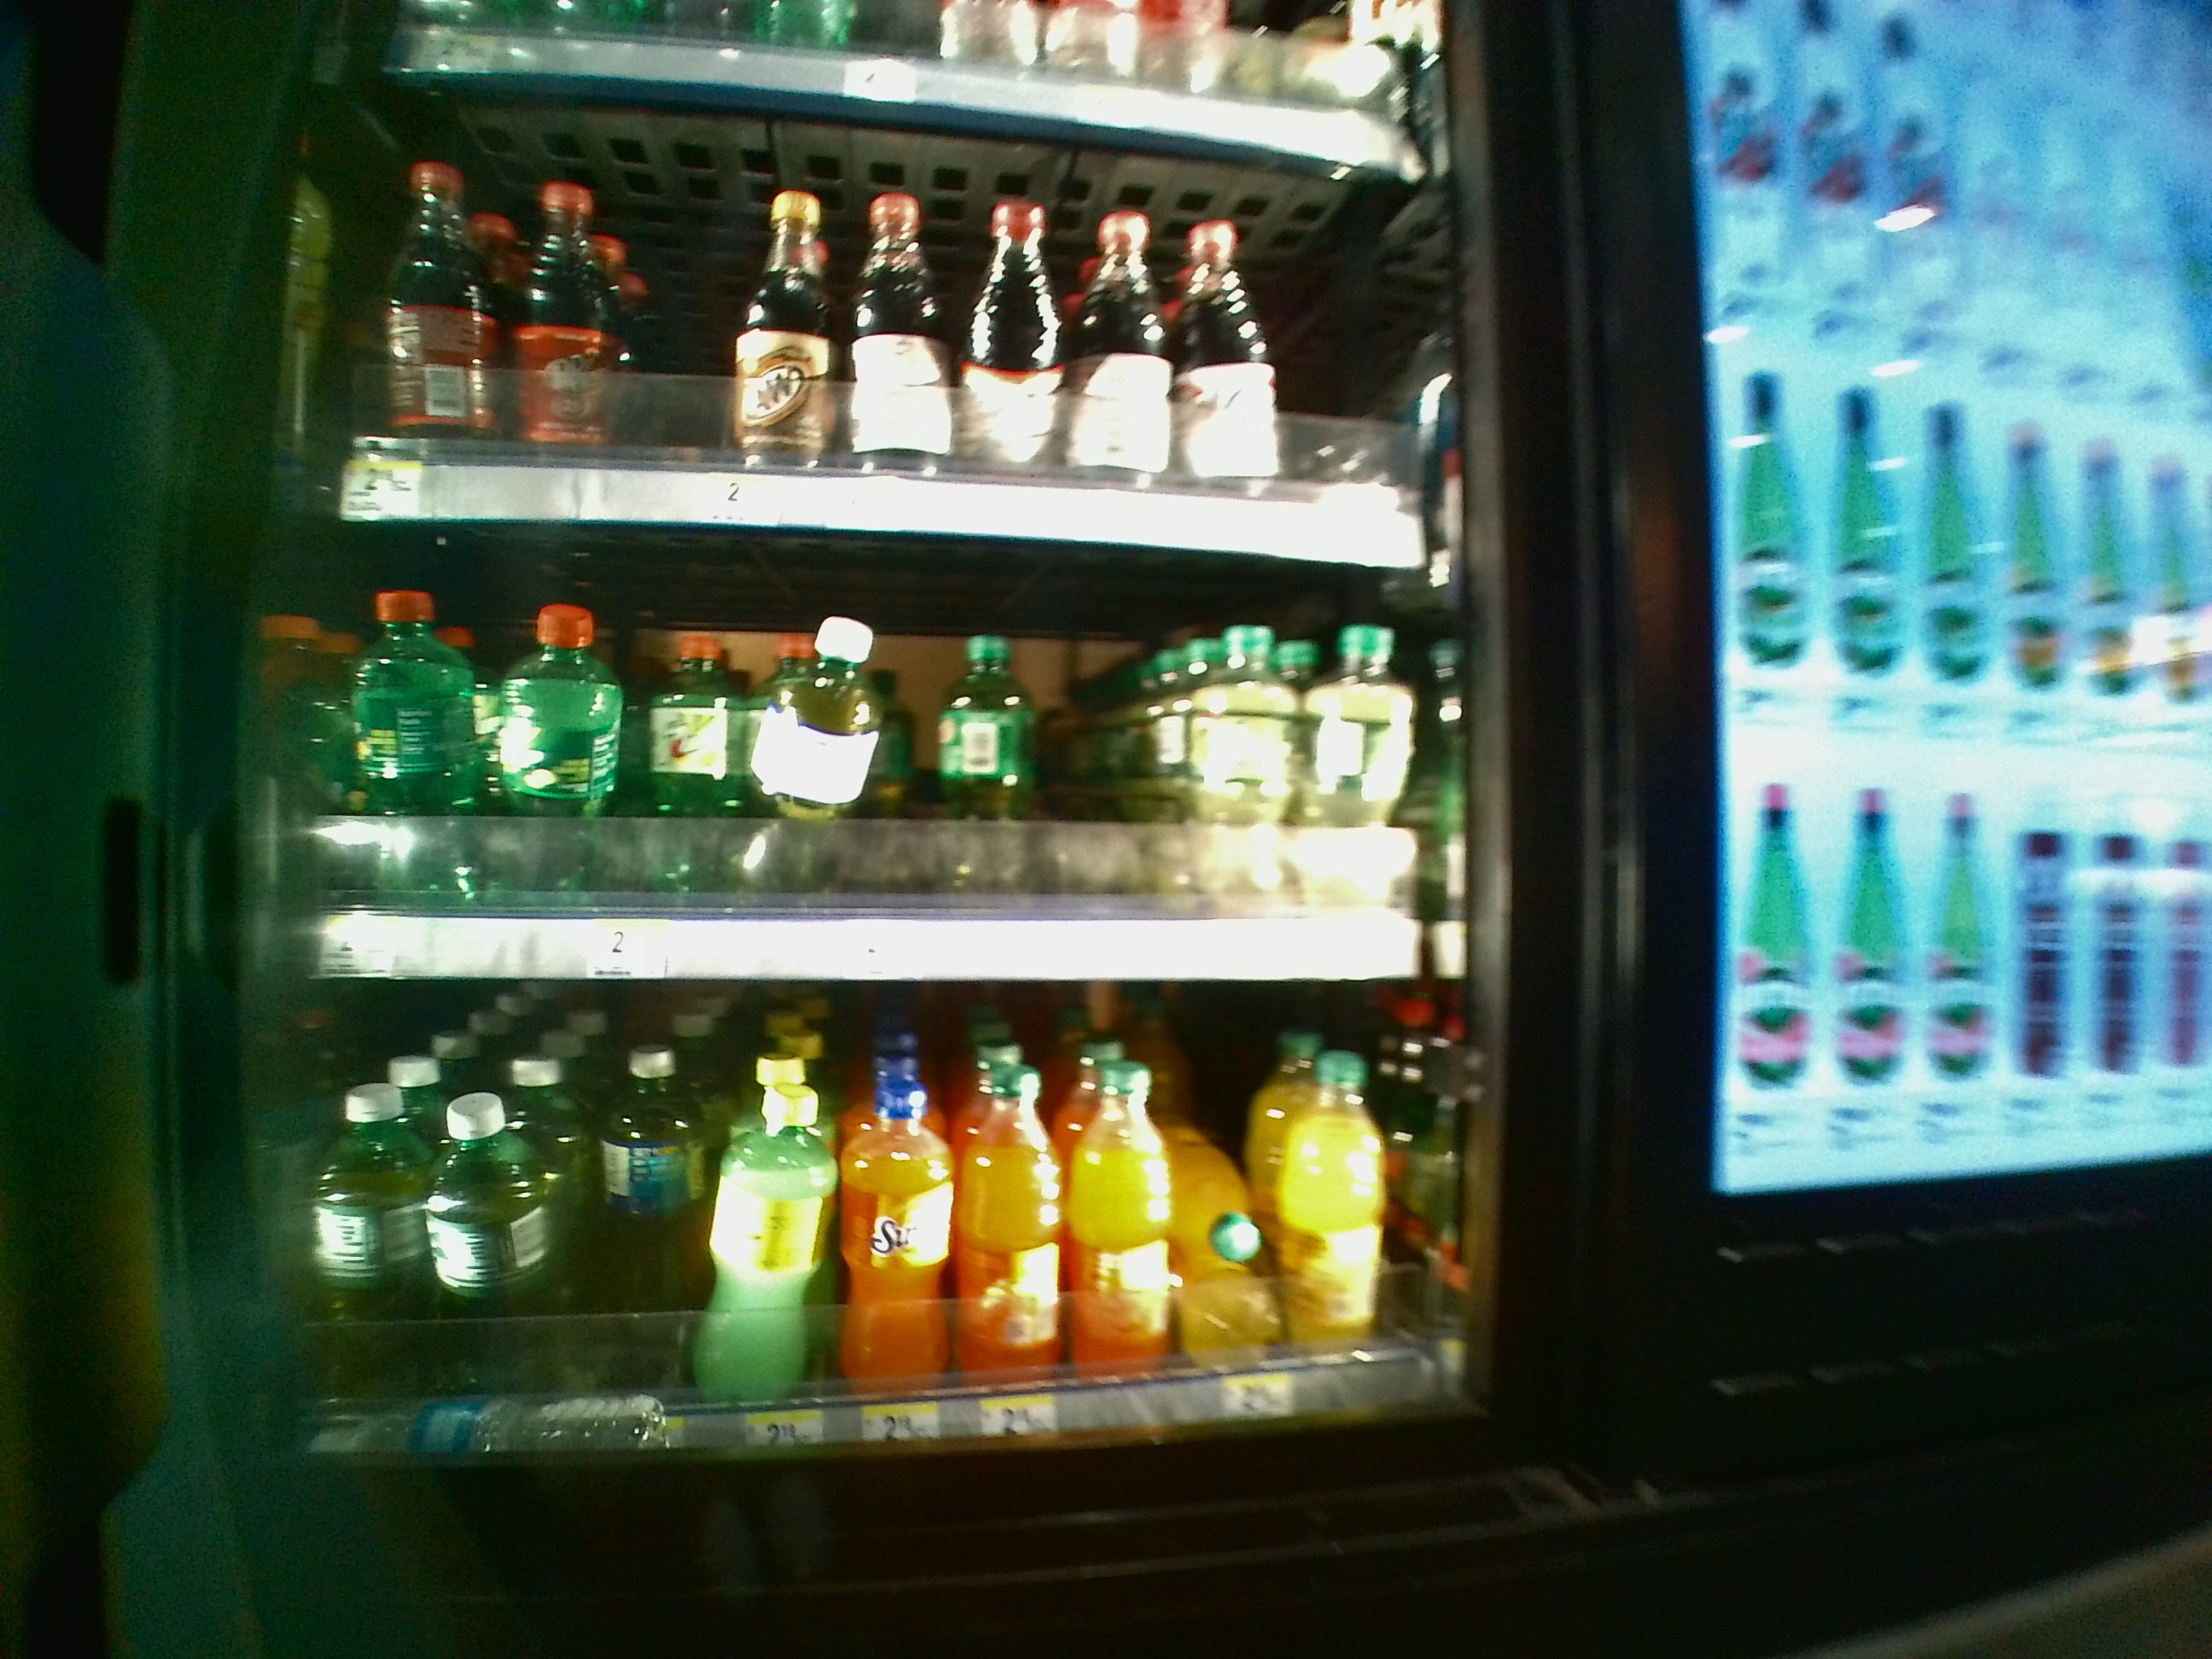Shelf: (298, 988, 1480, 1462), (298, 521, 1470, 988)
